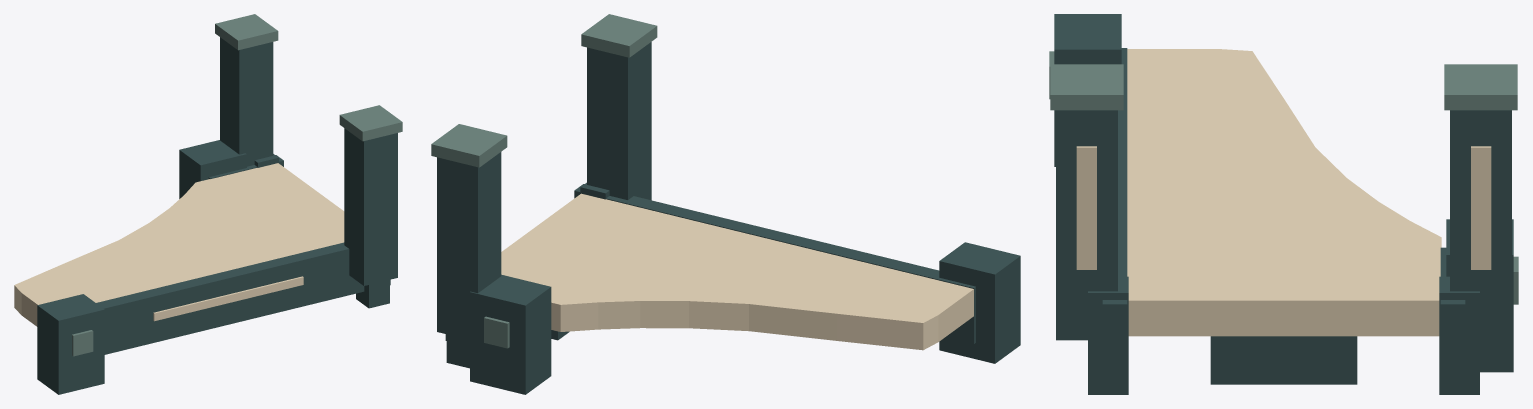
File: Pier_Angled_80_Switch_lab2.glb
3 views of the same model, side by side, from view 1: azimuth 30°, elevation 25°; view 2: azimuth 150°, elevation 25°; view 3: azimuth 270°, elevation 25° (orthographic). The views are drawn at different scales.
Parts seen in each view (by area): view 1: Pier_Angled_80_Switch; view 2: Pier_Angled_80_Switch; view 3: Pier_Angled_80_Switch.
Boxes of the visible parts, x1,y1,x2,y2 form: Pier_Angled_80_Switch: (14,14,402,394); Pier_Angled_80_Switch: (431,14,1020,394); Pier_Angled_80_Switch: (1049,14,1518,394).
Bounding box in the file's own units: 5.64 × 2.95 × 4.17.
